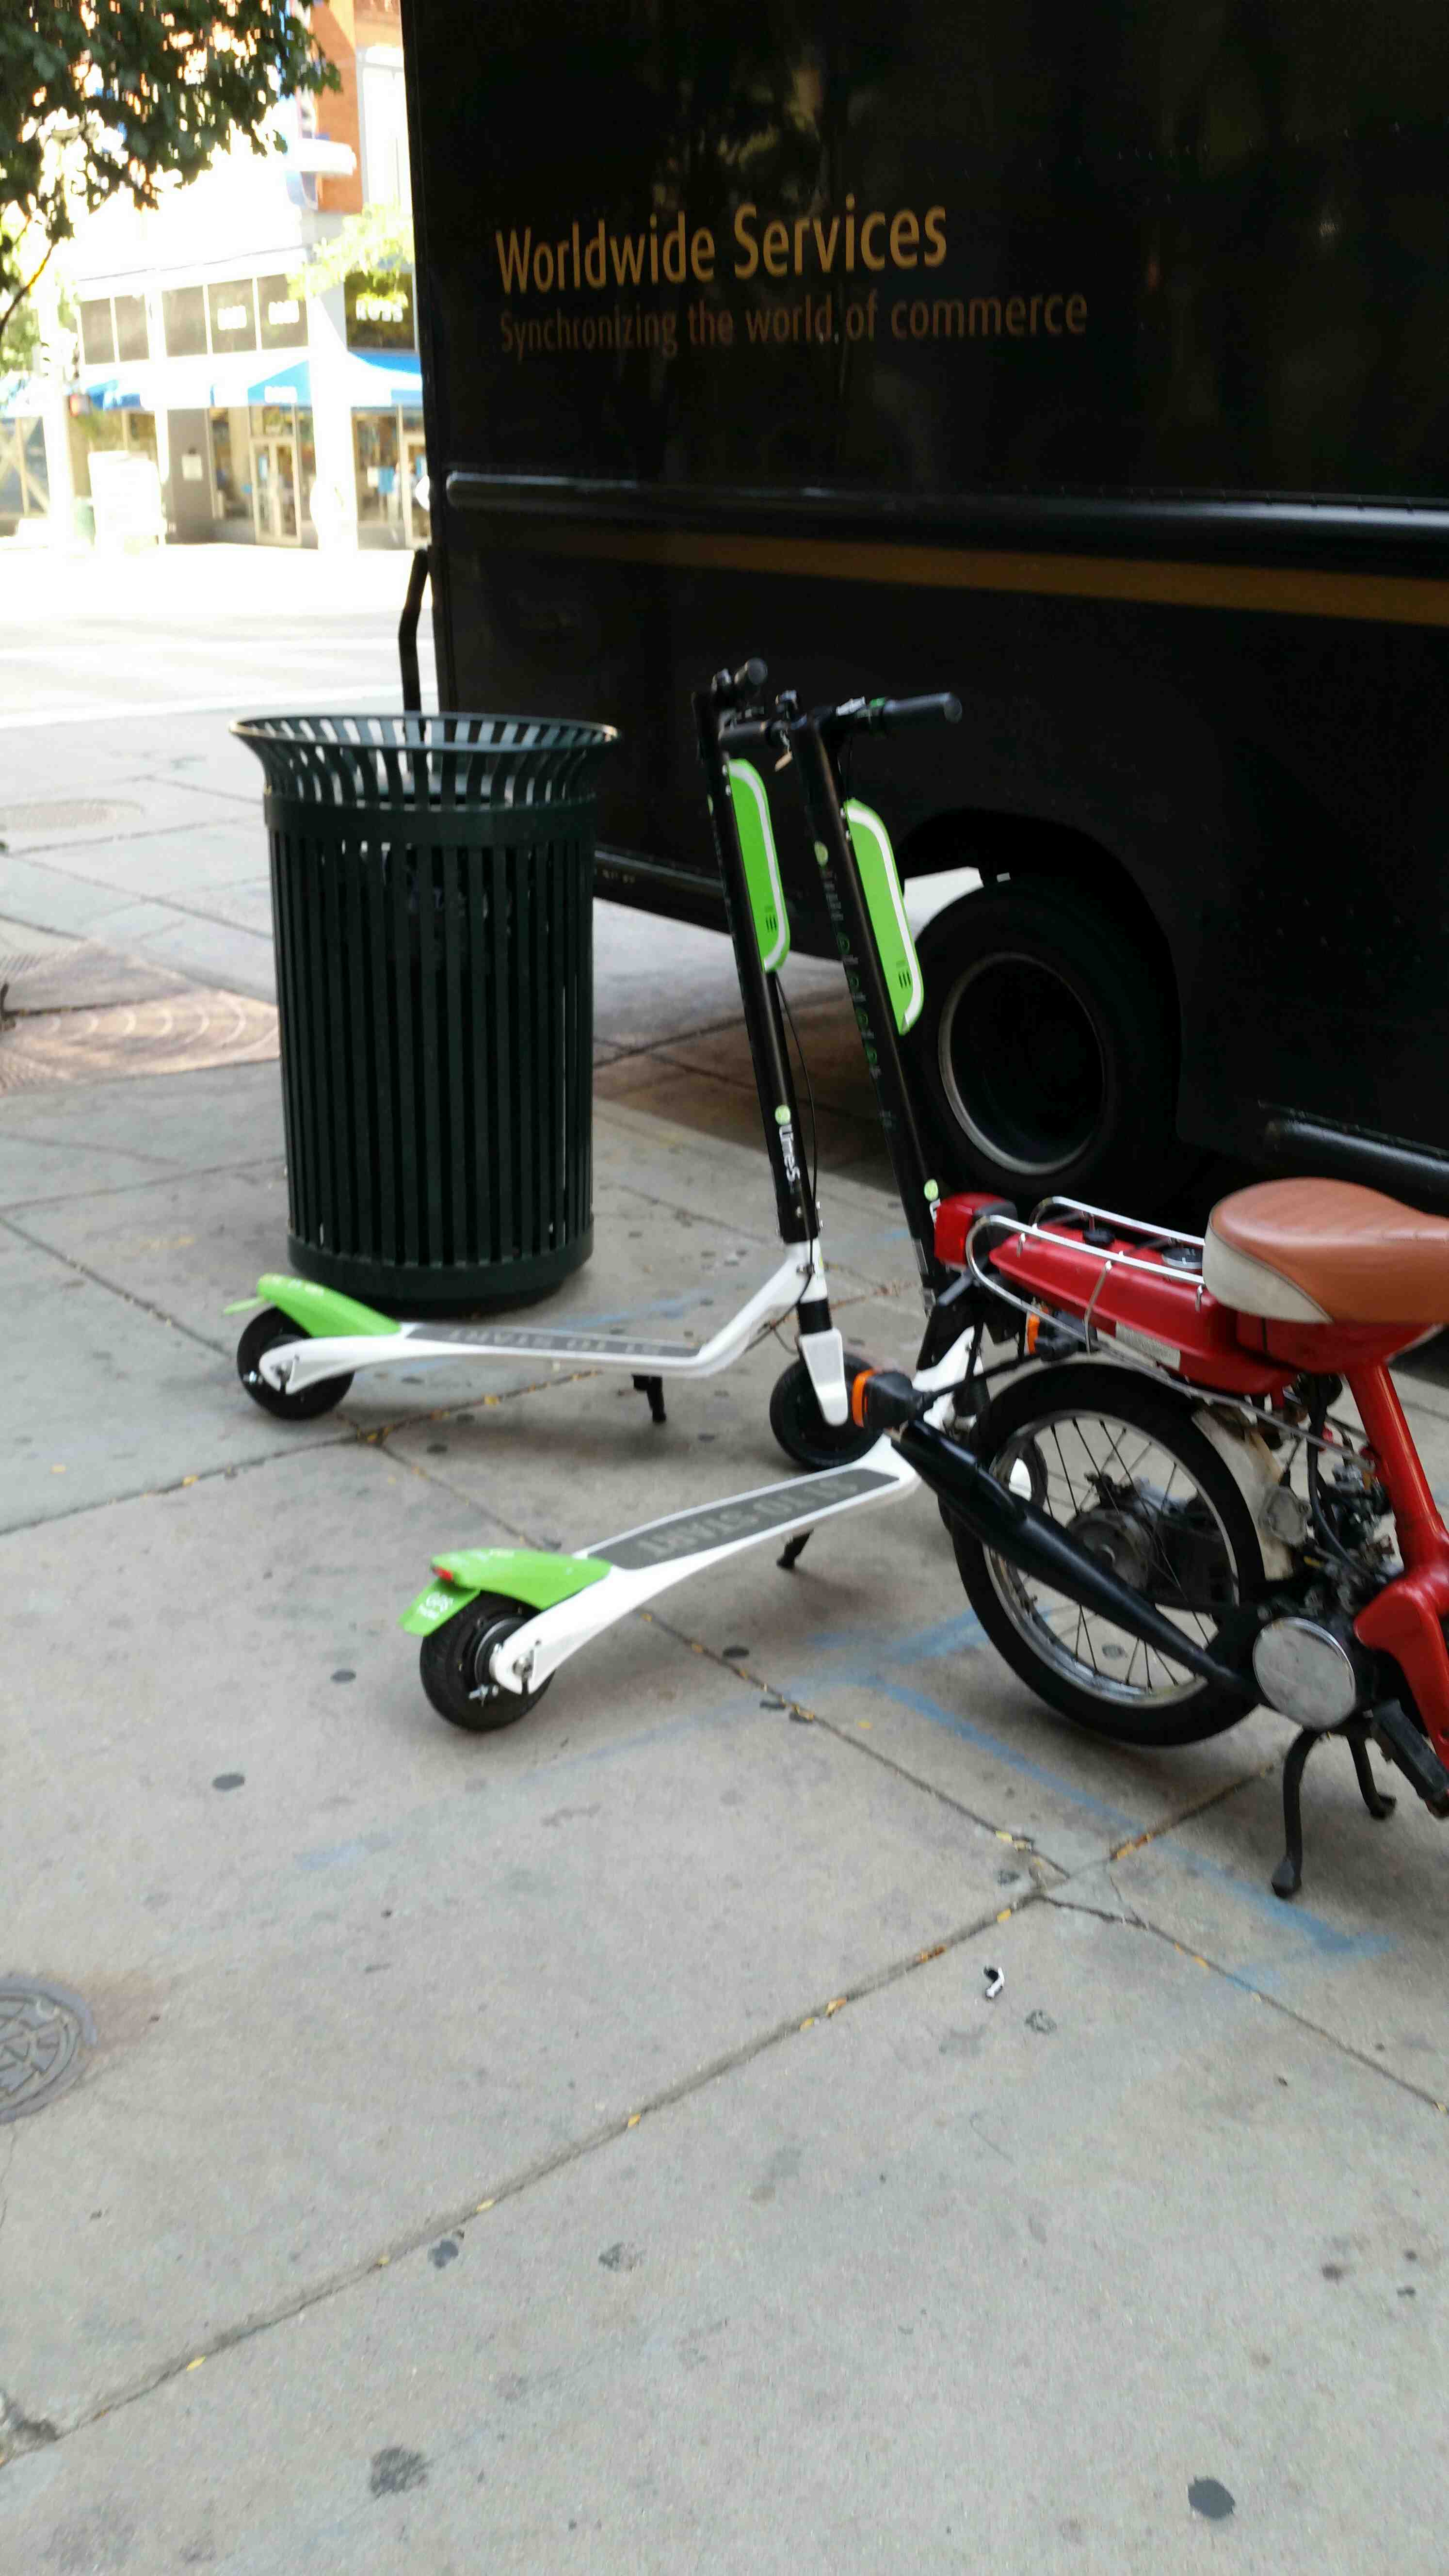scooter: (409, 662, 1014, 1780)
